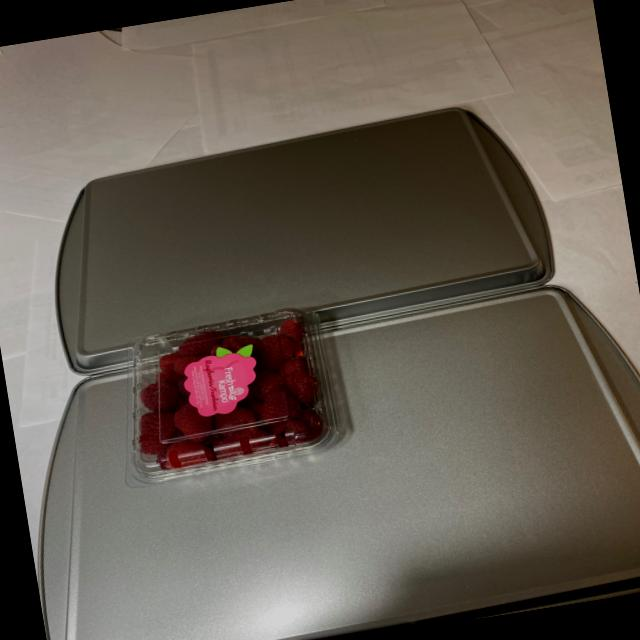raspberries: (124, 315, 332, 488)
